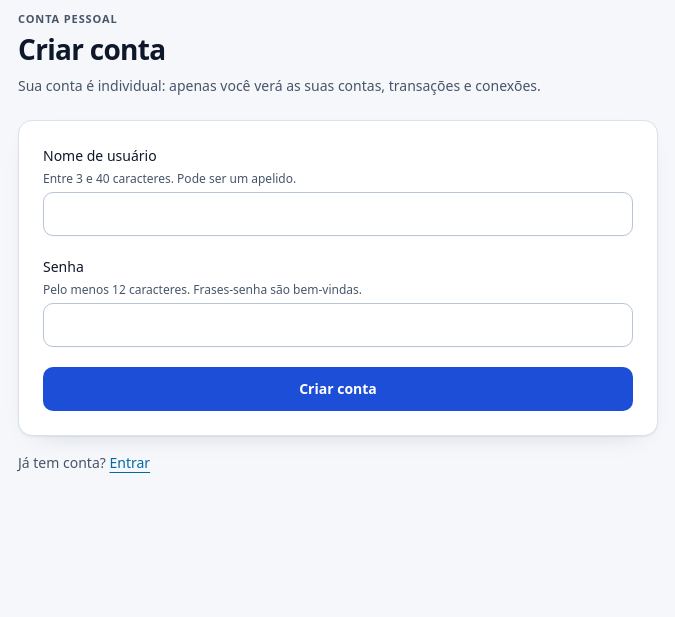
fluxo de autenticação › exibe erro de senha comum vindo do servidor com resumo focável
Type "alice.familia" into the field labelled "Nome de usuário". click: (338, 214)
box: top-left (43, 192), bottom-right (633, 236)
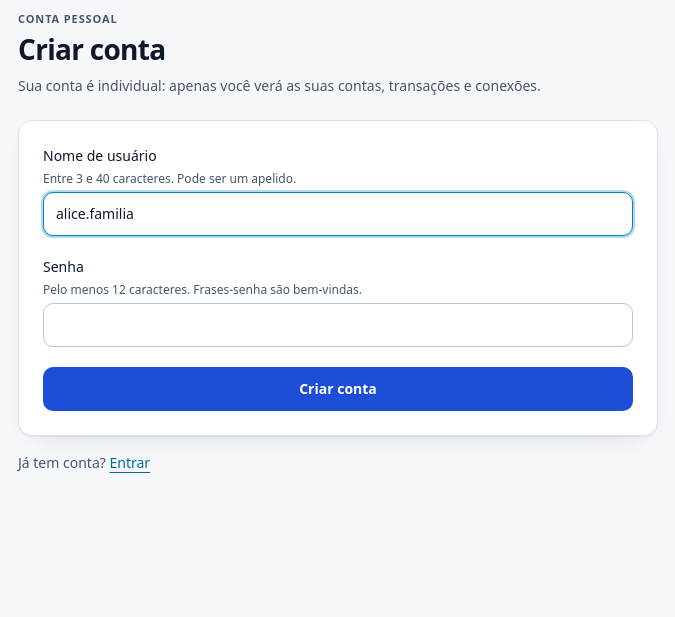
Type "unbelievable" into the password field labelled "Senha". click: (338, 325)
box: top-left (43, 303), bottom-right (633, 347)
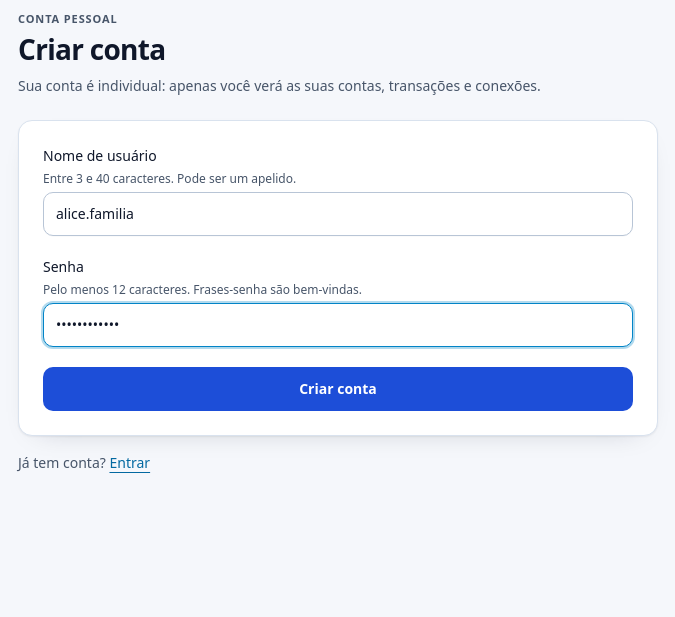
Click the button "Criar conta". click: (338, 389)
box: top-left (43, 367), bottom-right (633, 411)
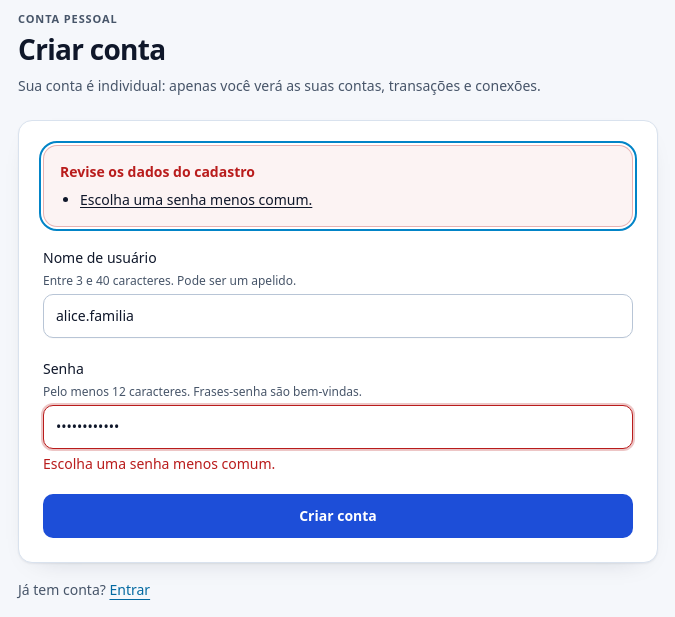
Now the link "Escolha uma senha menos comum." is shown, box top-left (80, 190), bottom-right (312, 209)
